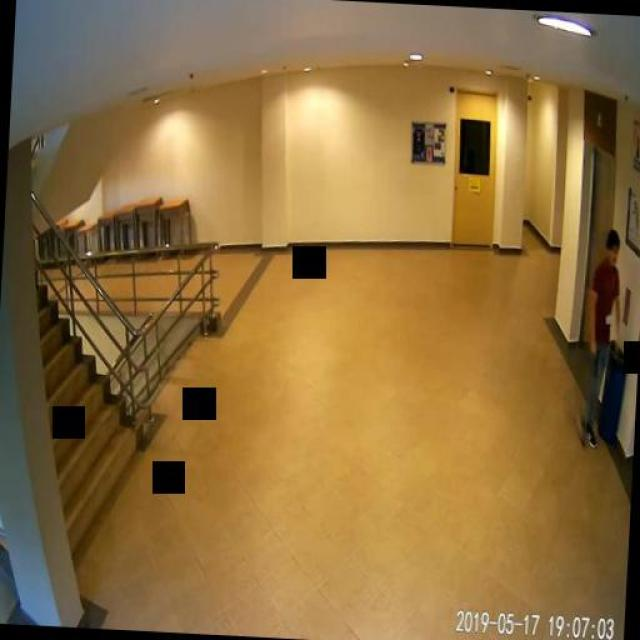gun: (589, 345, 599, 377)
